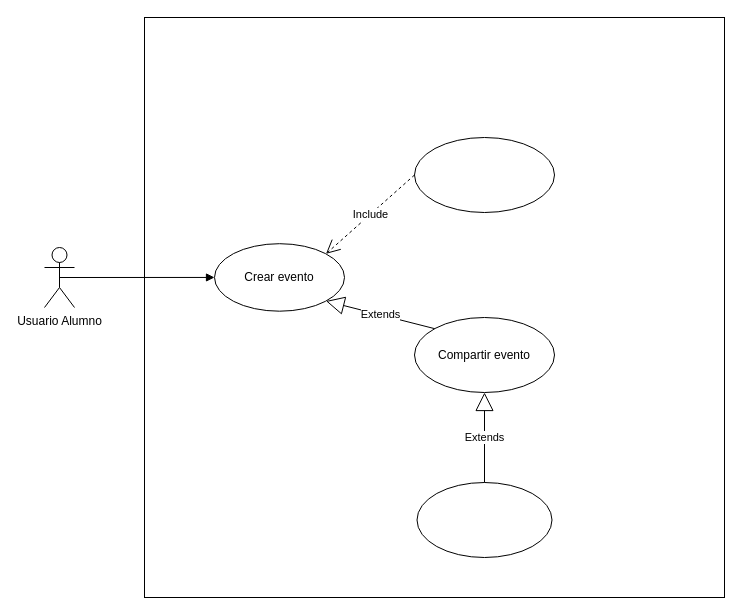
Some shapes in this 742 by 615 pixel diagram are drawn without their labels. The shapes that lost their labels are listed below. From the top down, each one's centre as x and y in pixels, then its label:
At [484,174]: "Especificar lugar, fecha, hora y deporte".
At [484,520]: "Unirse a evento".
